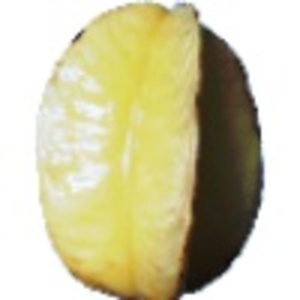carambola: (37, 1, 266, 300)
